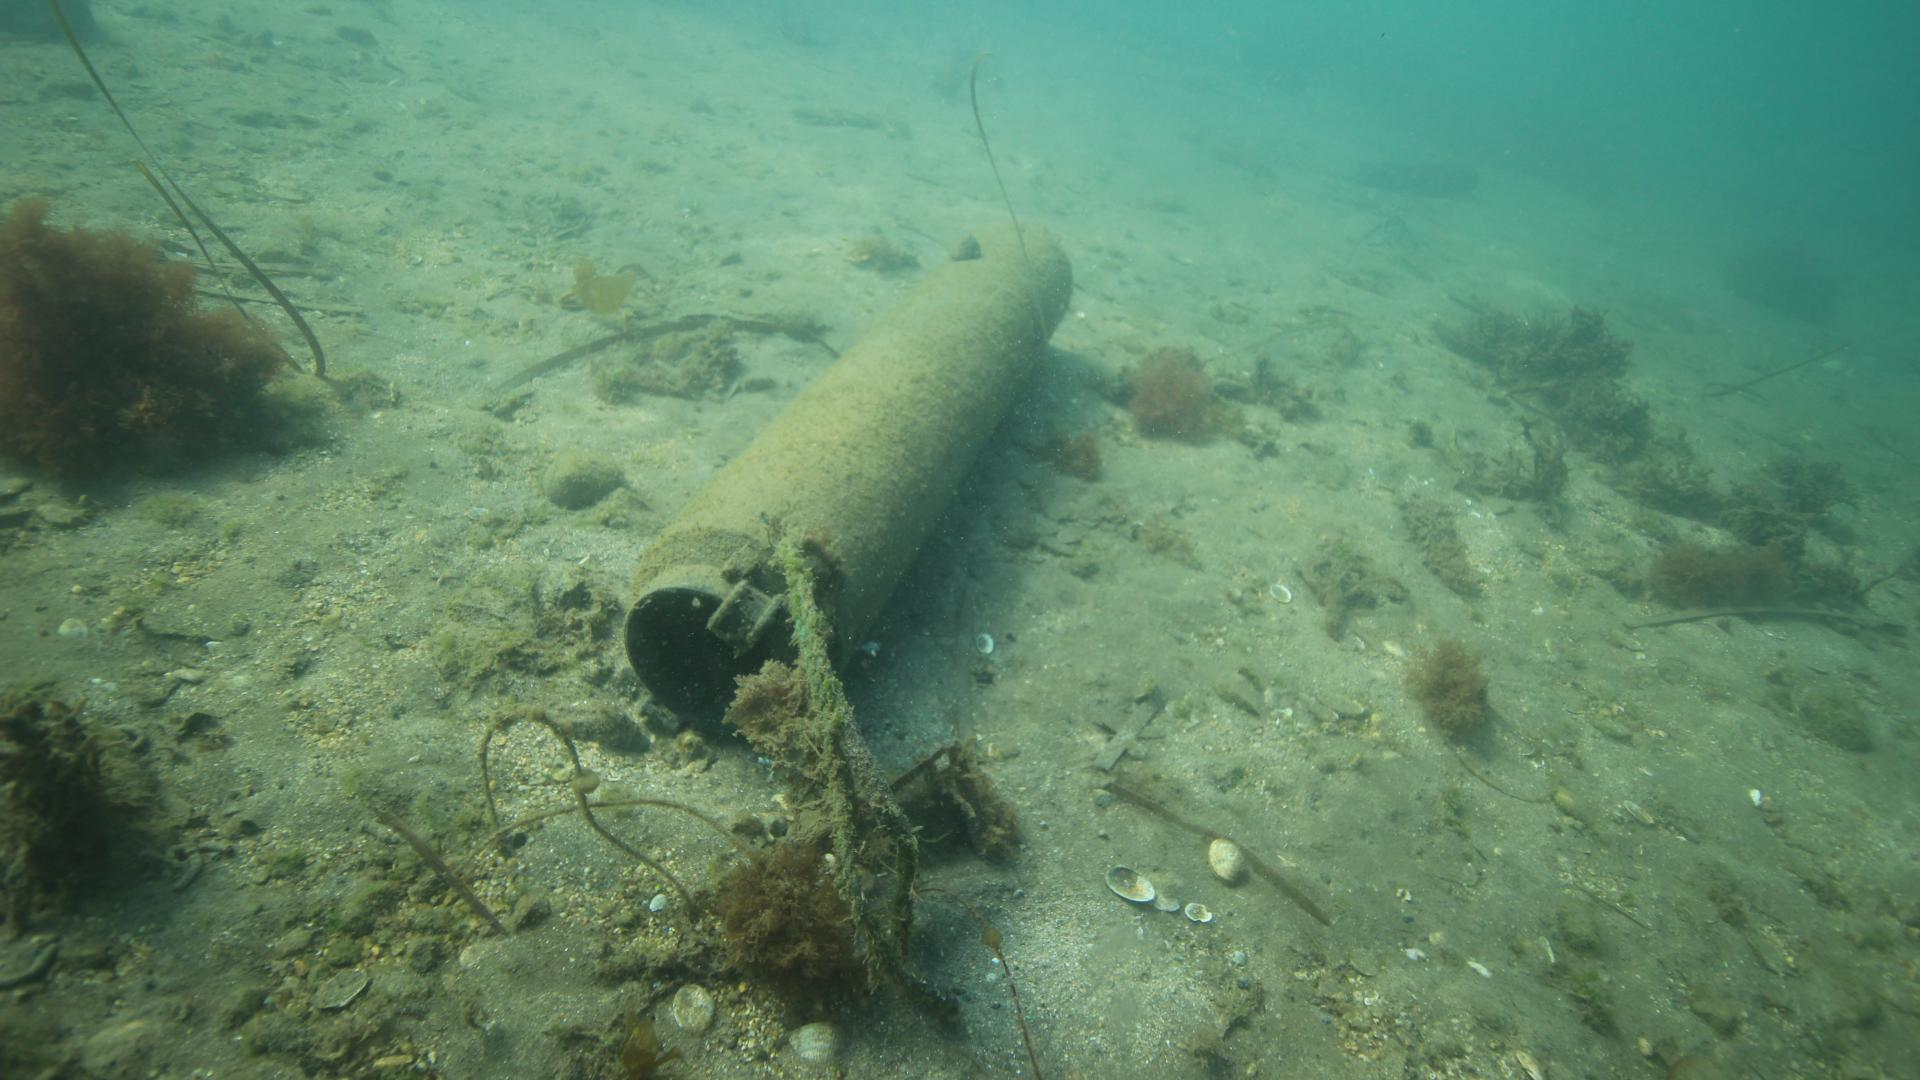bundle of ropes: (774, 531, 967, 1033)
eel fish trap: (625, 215, 1073, 756)
